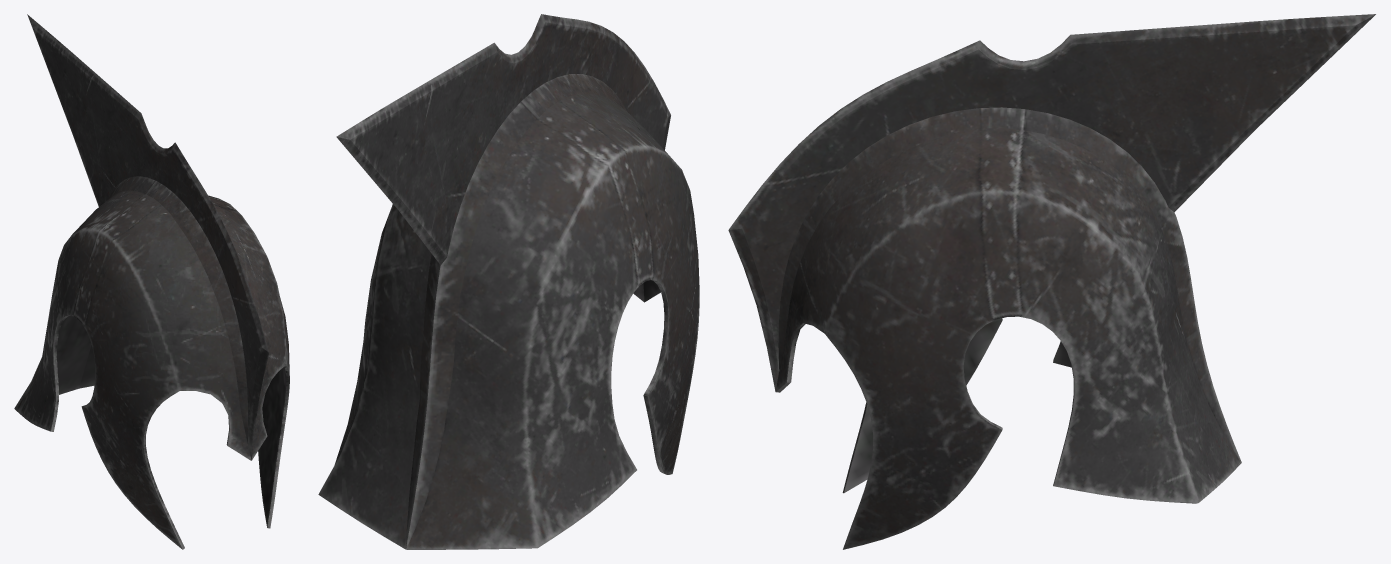
The model's file is sk_uruk_mordor_helmet_heavy_d2.fbx.
3 views of the same model, side by side, from view 1: azimuth 30°, elevation 25°; view 2: azimuth 150°, elevation 25°; view 3: azimuth 270°, elevation 25° (orthographic). The views are drawn at different scales.
Parts seen in each view (by area): view 1: sk_uruk_mordor_helmet_heavy_d2; view 2: sk_uruk_mordor_helmet_heavy_d2; view 3: sk_uruk_mordor_helmet_heavy_d2.
Part boxes in pixels (x1,y1,x2,y2): sk_uruk_mordor_helmet_heavy_d2: (14, 14, 289, 549); sk_uruk_mordor_helmet_heavy_d2: (318, 14, 699, 549); sk_uruk_mordor_helmet_heavy_d2: (728, 14, 1375, 549).
Bounding box in the file's own units: 0.197 × 0.426 × 0.368.
1 material, 1 textured.
